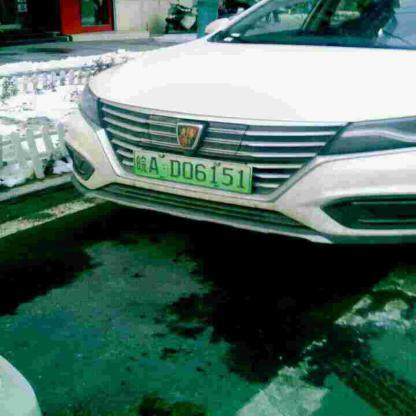lp: (134, 150, 250, 193)
